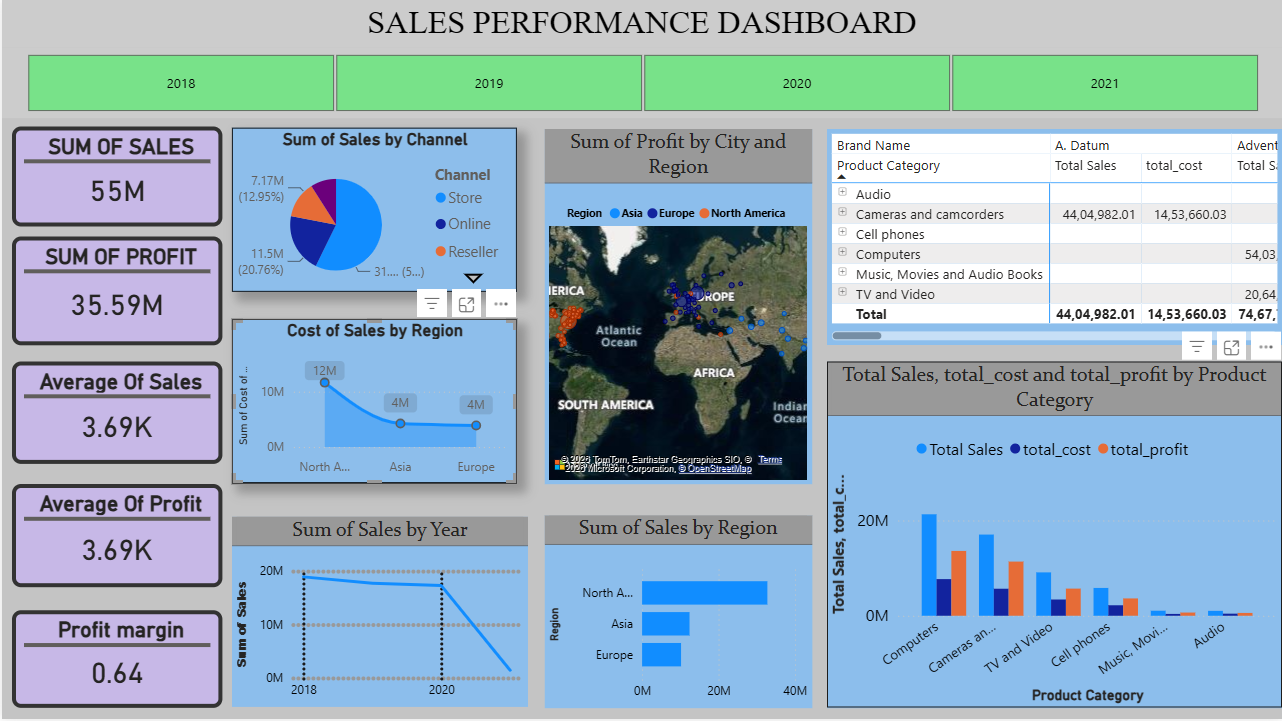

Layout of this report page (visuals, bound fields, positions):
{"tool":"powerbi","page":{"name":"Dashboard","canvas":[1280,720],"ordinal":9},"visuals":[{"type":"textbox","box":[0,0,1280,48.6],"z":0},{"type":"card","title":"SUM OF SALES","fields":{"Values":["Sum(Sheet1.Sales)"]},"box":[10.3,127.5,210.2,99.9],"z":1000},{"type":"slicer","fields":{"Values":["Sheet1.Year"]},"box":[0,48.6,1280,70],"z":2000},{"type":"card","title":"SUM OF PROFIT","fields":{"Values":["Sum(Sheet1.Profit)"]},"box":[10.3,238.1,210.2,108.9],"z":3000},{"type":"card","title":"Average Of Sales","fields":{"Values":["Sheet1.averageofprofit"]},"box":[10,362.5,210,102.5],"z":4000},{"type":"card","title":"Average Of Profit","fields":{"Values":["Sheet1.averageofprofit"]},"box":[10.3,484.8,210.2,103.4],"z":5000},{"type":"card","title":"Profit margin","fields":{"Values":["Sheet1.profit_margin"]},"box":[10.3,611.1,210.2,97.6],"z":6000},{"type":"pieChart","fields":{"Y":["Sum(Sheet1.Sales)"],"Category":["Sheet1.Channel"]},"box":[229.7,128.7,284.9,164.3],"z":7000},{"type":"areaChart","title":"Cost of Sales by Region","fields":{"Y":["Sum(Sheet1.Cost of Sales)"],"Category":["Sheet1.Region"]},"box":[229.7,320.5,284.9,164.3],"z":8000},{"type":"lineChart","fields":{"Y":["Sum(Sheet1.Sales)"],"Category":["Sheet1.Year"]},"box":[229.7,518.1,296.4,190.7],"z":9000},{"type":"map","fields":{"Series":["Sheet1.Region"],"Category":["Sheet1.City"],"Size":["Sum(Sheet1.Profit)"]},"box":[542.2,129.8,267.6,354.9],"z":10000},{"type":"barChart","fields":{"Y":["Sum(Sheet1.Sales)"],"Category":["Sheet1.Region"]},"box":[542.2,515.8,267.6,193],"z":11000},{"type":"pivotTable","fields":{"Values":["Sheet1.Total Sales","Sheet1.total_cost"],"Rows":["Sheet1.Product Category","Sheet1.Product Name","Sheet1.City"],"Columns":["Sheet1.Brand Name","Sheet1.Order Date.Variation.Date Hierarchy.Year","Sheet1.Order Date.Variation.Date Hierarchy.Quarter","Sheet1.Order Date.Variation.Date Hierarchy.Month","Sheet1.Order Date.Variation.Date Hierarchy.Day","Sheet1.Region"]},"box":[825,130,455,216.2],"z":12000},{"type":"clusteredColumnChart","fields":{"Category":["Sheet1.Product Category"],"Y":["Sheet1.Total Sales","Sheet1.total_cost","Sheet1.total_profit"]},"box":[825,362.5,455,346.2],"z":13000}]}

Visuals, with their boxes in screenshot pixels (x1, y1, x2, y2), scaled from the page's 1280x720 canvas onto the 1282x721 screenshot:
textbox: 0, 0, 1281, 49
"SUM OF SALES" card: 10, 128, 221, 228
slicer - Sheet1.Year: 0, 49, 1281, 119
"SUM OF PROFIT" card: 10, 238, 221, 347
"Average Of Sales" card: 10, 363, 220, 466
"Average Of Profit" card: 10, 485, 221, 589
"Profit margin" card: 10, 612, 221, 710
pieChart - Sum(Sheet1.Sales) x Sheet1.Channel: 230, 129, 515, 293
"Cost of Sales by Region" areaChart: 230, 321, 515, 485
lineChart - Sum(Sheet1.Sales) x Sheet1.Year: 230, 519, 527, 710
map - Sheet1.Region x Sheet1.City: 543, 130, 811, 485
barChart - Sum(Sheet1.Sales) x Sheet1.Region: 543, 517, 811, 710
pivotTable - Sheet1.Total Sales x Sheet1.total_cost: 826, 130, 1281, 347
clusteredColumnChart - Sheet1.Product Category x Sheet1.Total Sales: 826, 363, 1281, 710
